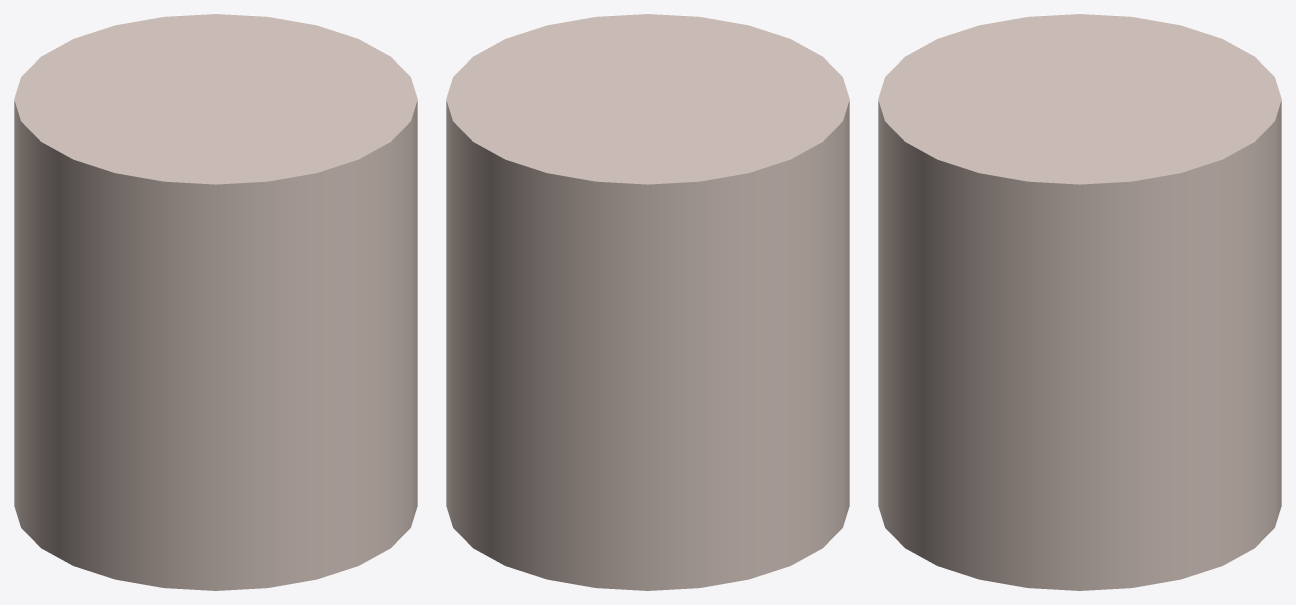
The model's file is jp_bedroom_pencil_eraser.glb.
3 renders of one model, left to right at view 1: azimuth 30°, elevation 25°; view 2: azimuth 150°, elevation 25°; view 3: azimuth 270°, elevation 25°, orthographic.
Parts seen in each view (by area): view 1: eraser; view 2: eraser; view 3: eraser.
Boxes of the visible parts, bbox=[...] form: eraser: bbox=[14, 14, 417, 590]; eraser: bbox=[446, 14, 849, 590]; eraser: bbox=[878, 14, 1281, 590].
Size of the model in its own units: 0.0072 by 0.008 by 0.0072.
